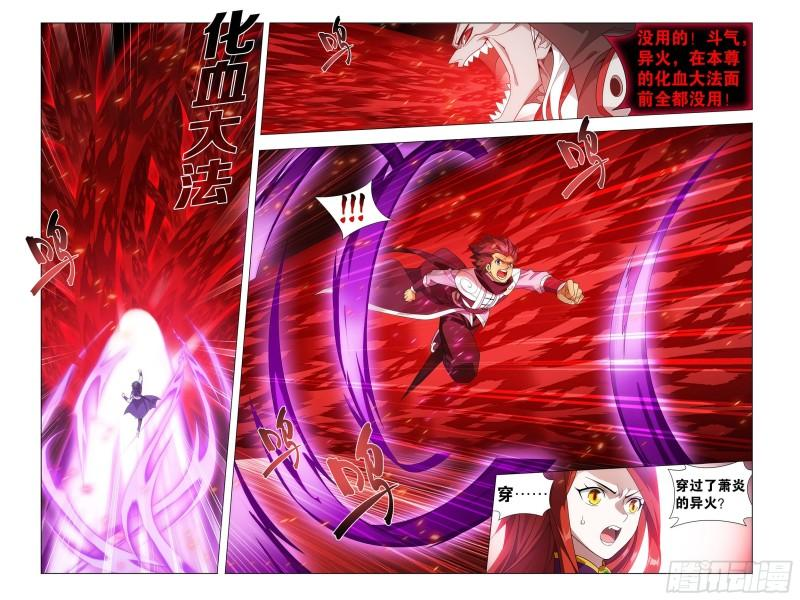boxBad: (604, 20, 752, 116)
boxBomb: (668, 460, 754, 528), (492, 472, 552, 522)
minBox: (224, 120, 754, 574), (40, 20, 262, 574), (258, 20, 754, 136)
